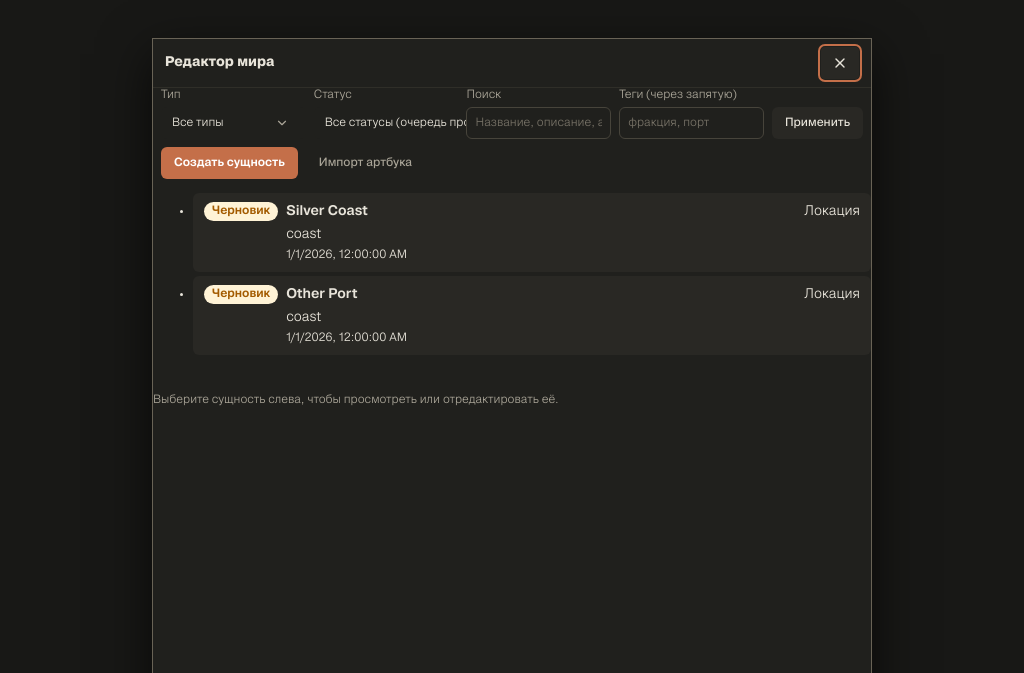
Scenario: WorldContentWorkspace canonical PATCH recovery › reflects dirty state and clears it when the draft returns to baseline
The width and height of the screenshot is (1024, 673).
Click the button "Черновик Silver Coast Локация coast 1/1/2026, 12:00:00 AM": (241, 212) [193, 193, 871, 272]
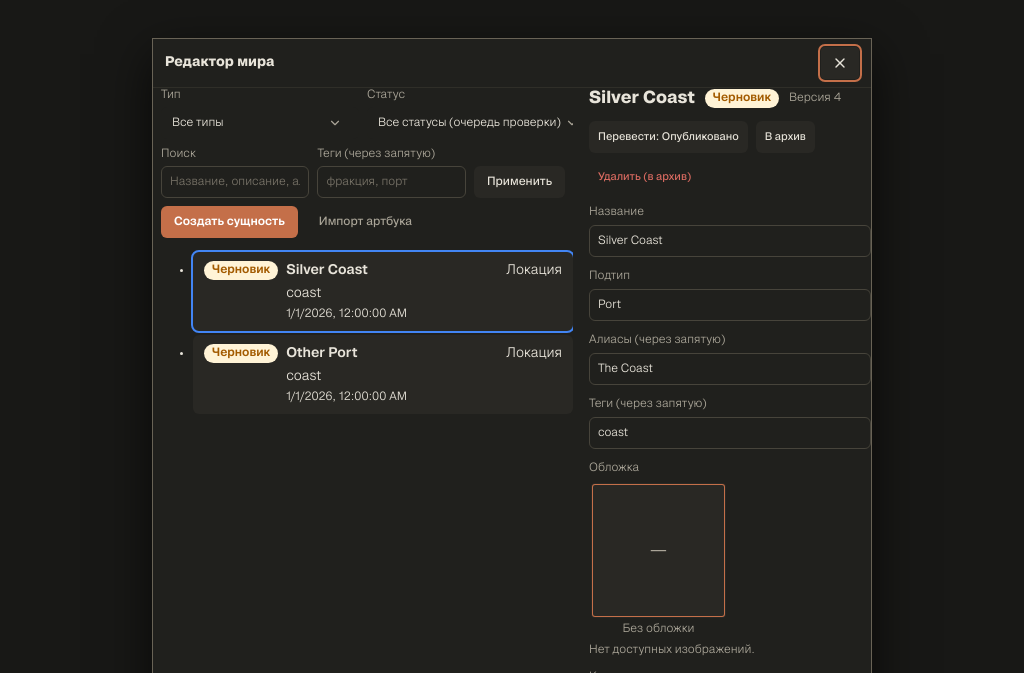
Check: the field labelled "Название" is shown
Replace the text in the field labelled "Название" with "Unsaved local edit": (730, 241) [598, 226, 862, 256]
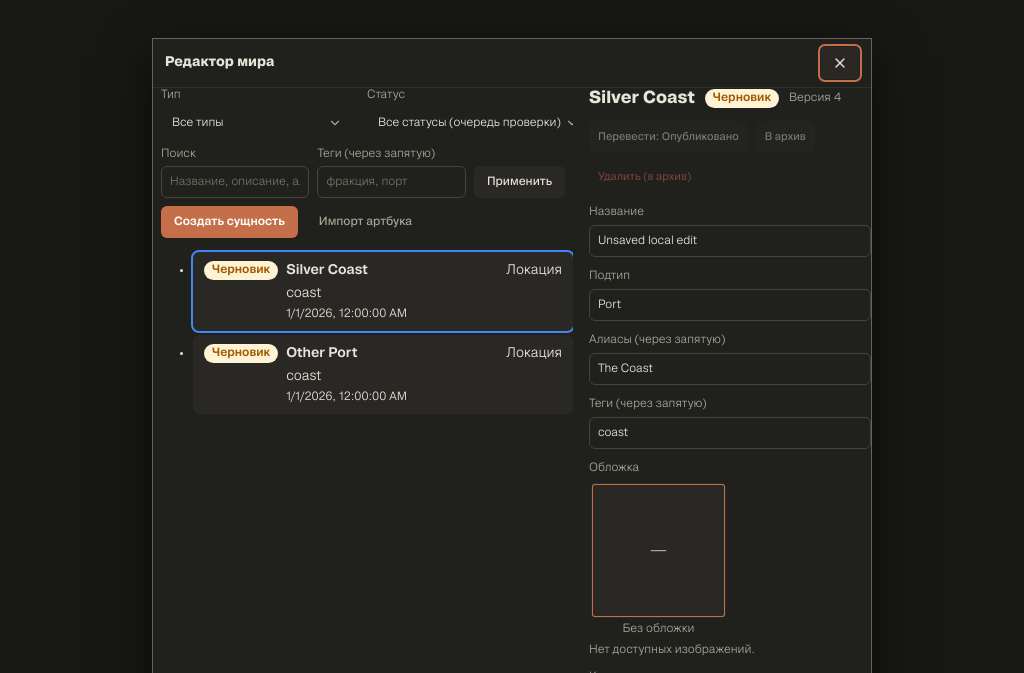
Replace the text in the field labelled "Название" with "Silver Coast": (730, 241) [598, 226, 862, 256]
(page scrolled)
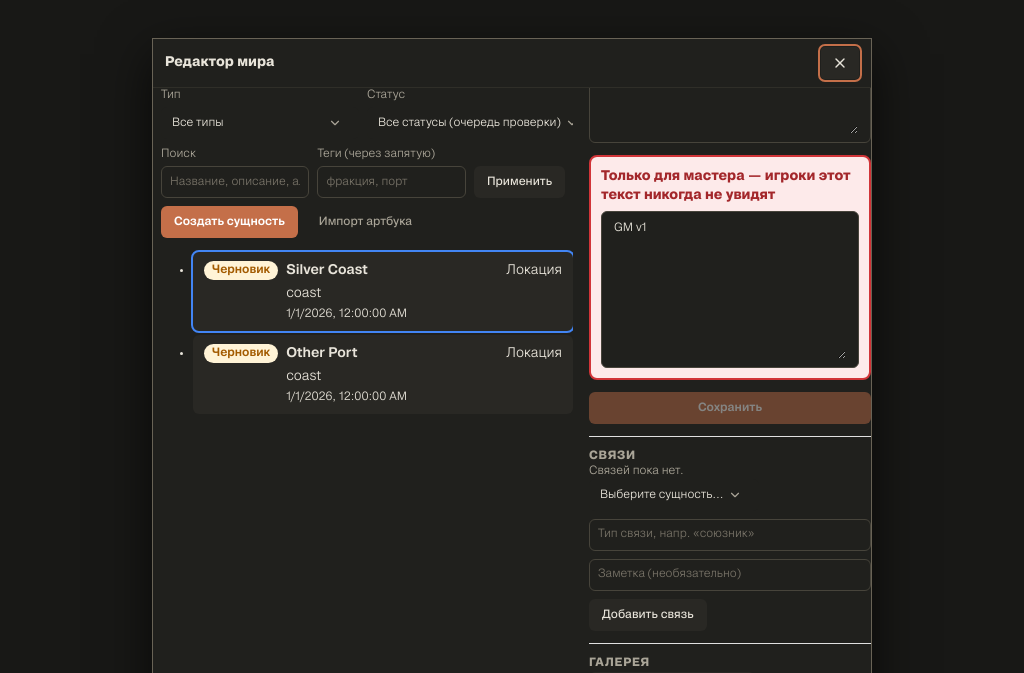
Check: the button "Сохранить" is disabled, box [589, 392, 871, 424]
